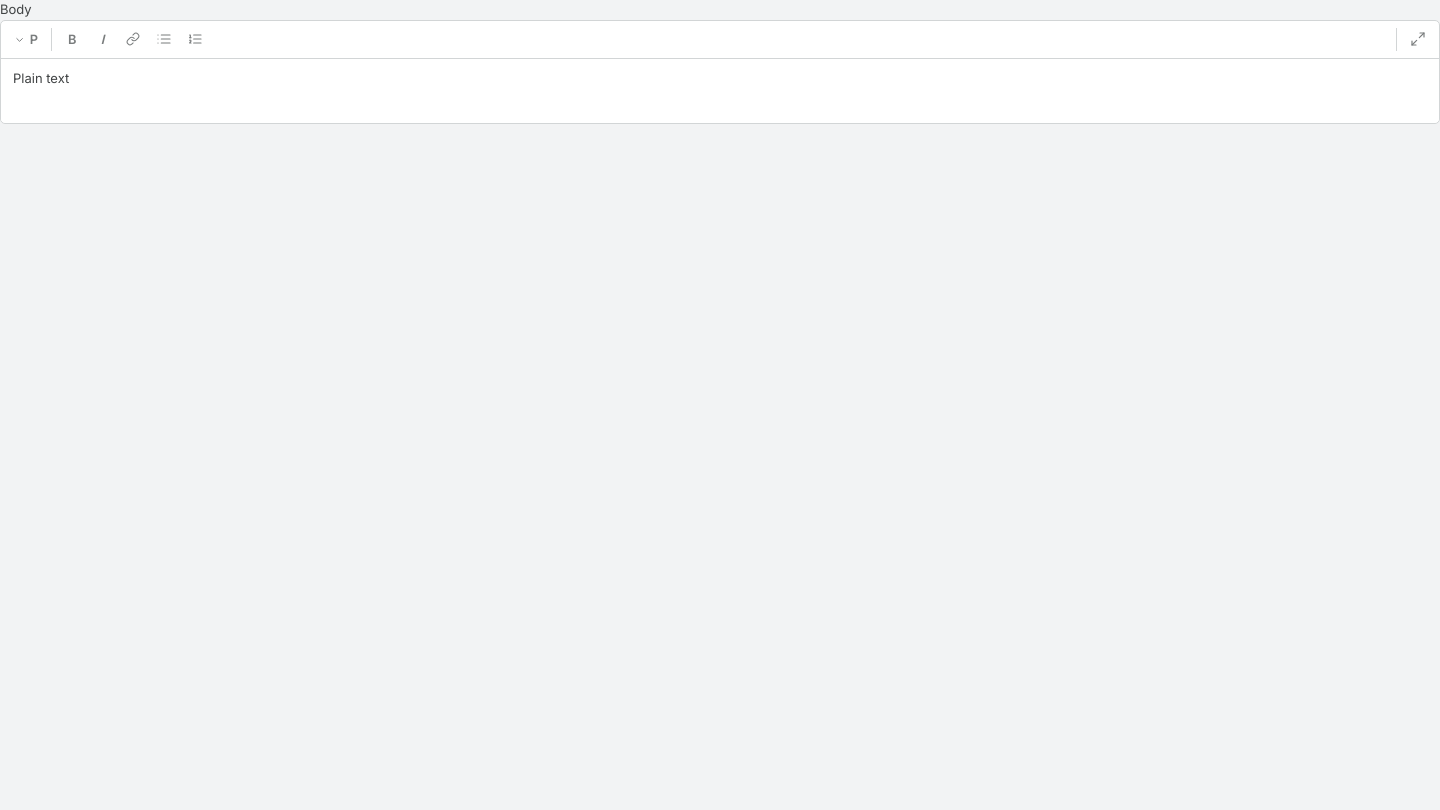
Test case: RichTextField › toolbar buttons › outside any link, the popover starts empty with Add and no Remove
The width and height of the screenshot is (1440, 810).
Click the button named "Link".
click(133, 39)  # box [119, 25, 147, 53]
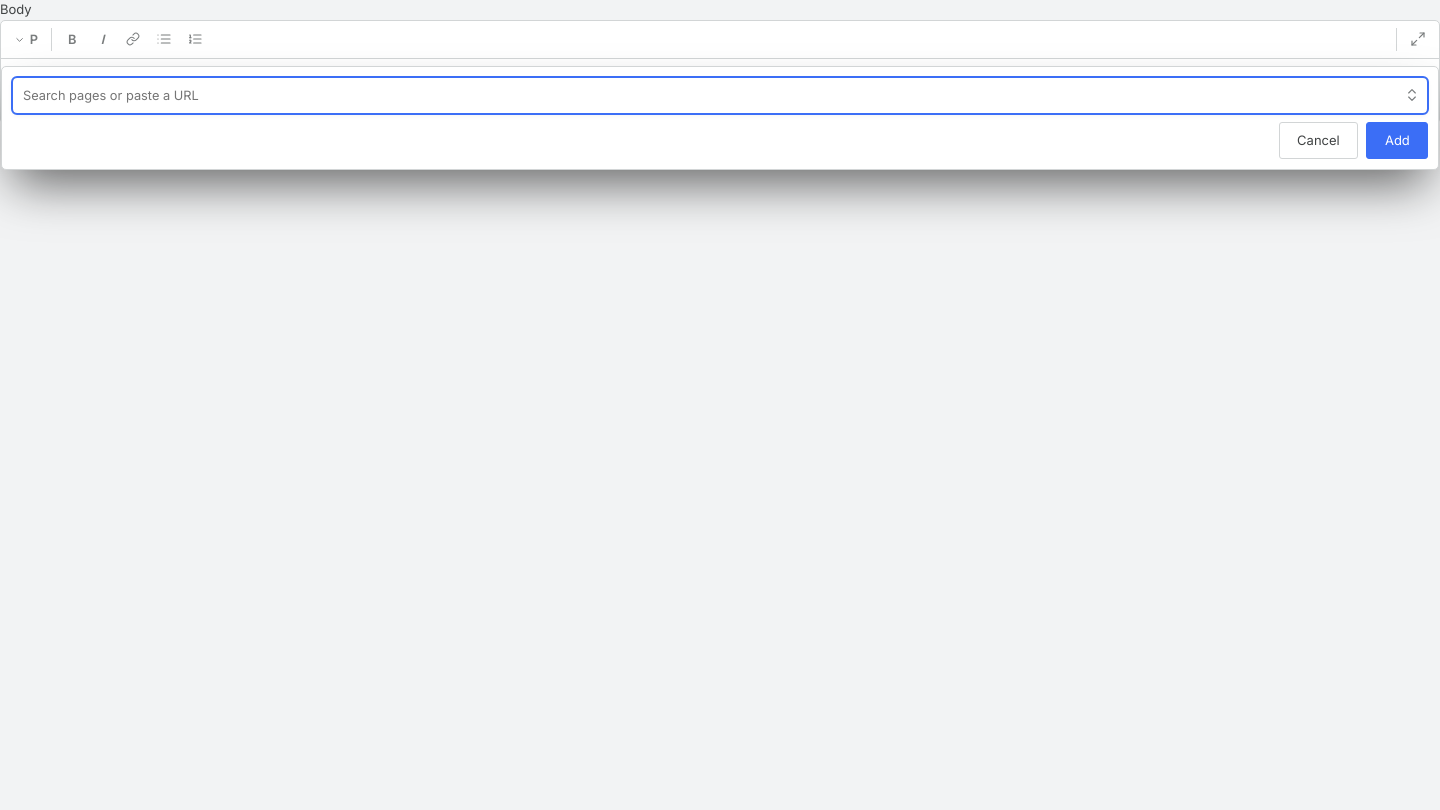
Check: the dropdown named "Link URL" is empty, box [12, 77, 1428, 114]
Check: the button "Add" is shown, box [1366, 122, 1428, 159]
